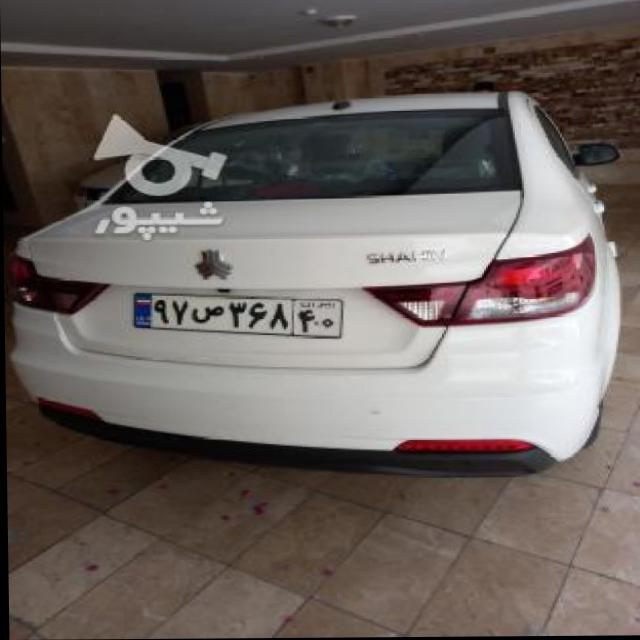licence: (131, 287, 338, 342)
